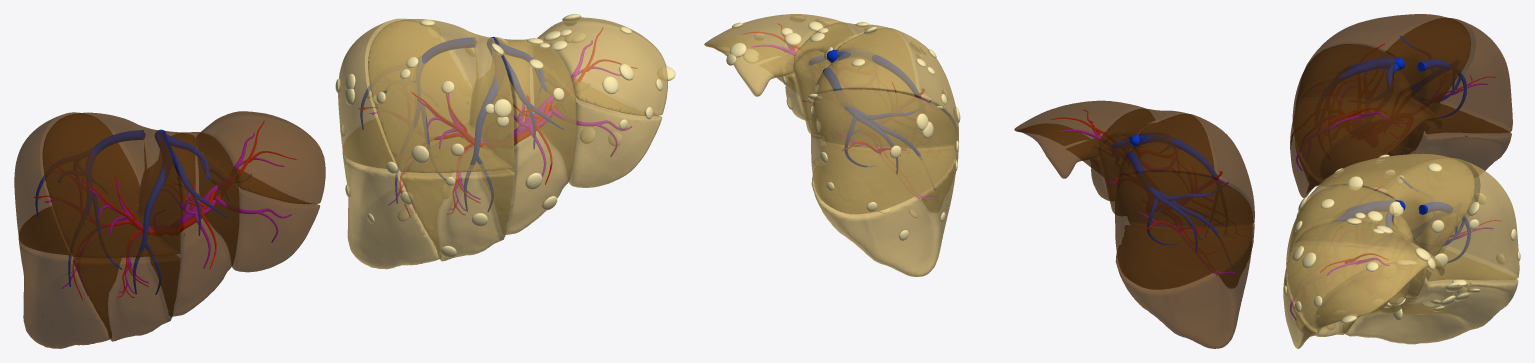
The model's file is liver-compare.glb.
3 views of the same model, side by side, from view 1: azimuth 30°, elevation 25°; view 2: azimuth 150°, elevation 25°; view 3: azimuth 270°, elevation 25° (orthographic). The views are drawn at different scales.
Visible parts, largest first — view 1: group (×2), liver-fatty-add_0; view 2: group (×2), liver-fatty-add_0; view 3: group (×2), liver-fatty-add_0.
Part boxes in pixels (x1,y1,x2,y2): group (×2): (14, 17, 667, 348); liver-fatty-add_0: (335, 14, 675, 257); group (×2): (704, 14, 1254, 348); liver-fatty-add_0: (717, 16, 960, 240); group (×2): (1283, 14, 1519, 348); liver-fatty-add_0: (1283, 154, 1520, 329).
Bounding box in the file's own units: 0.4576 × 0.1592 × 0.1629.
